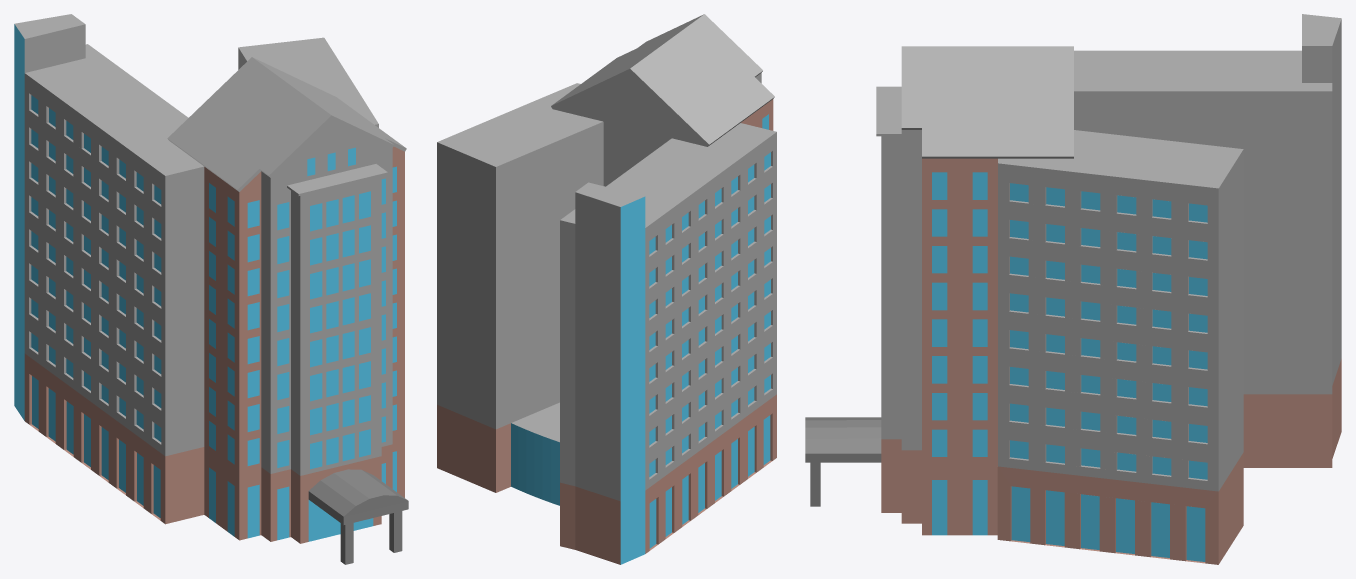
The model's file is ChamBit.glb.
The picture shows the model from 3 angles, left to right: view 1: azimuth 30°, elevation 25°; view 2: azimuth 150°, elevation 25°; view 3: azimuth 270°, elevation 25°; orthographic projection. The views are drawn at different scales.
Visible parts, largest first — view 1: Main, Window, Main Red, Entrance; view 2: Main, Window, Main Red; view 3: Main, Main Red, Window, Entrance.
Boxes of the visible parts, x1,y1,x2,y2 form: Main: (14,14,406,475); Window: (14,24,396,541); Main Red: (24,146,404,543); Entrance: (308,469,408,564); Main: (437,14,776,501); Window: (511,114,770,564); Main Red: (437,99,776,564); Main: (876,14,1341,491); Main Red: (881,158,1341,564); Window: (932,172,1207,561); Entrance: (805,417,881,506).
Bounding box in the file's own units: 32.16 × 48.48 × 52.94.
